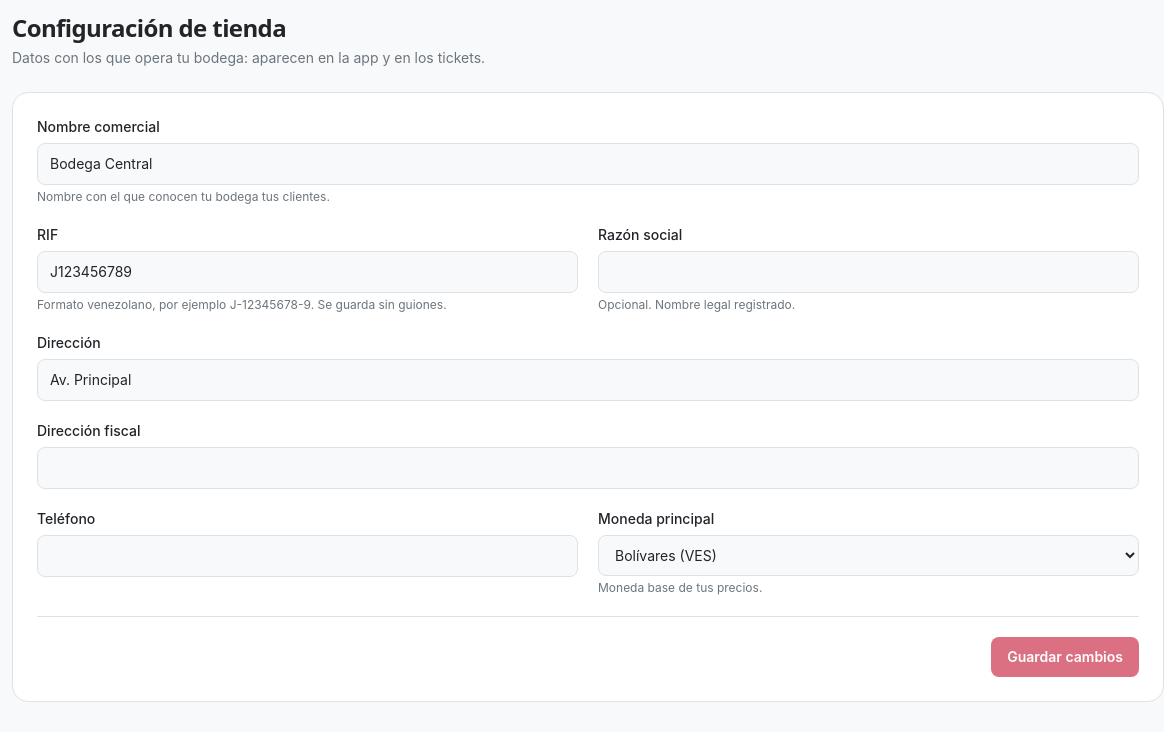
Test: ConfiguracionTiendaPage › blocks submit and shows field errors when validation fails
Clear the field labelled "Nombre comercial": [588, 164] box left=37, top=143, right=1139, bottom=185
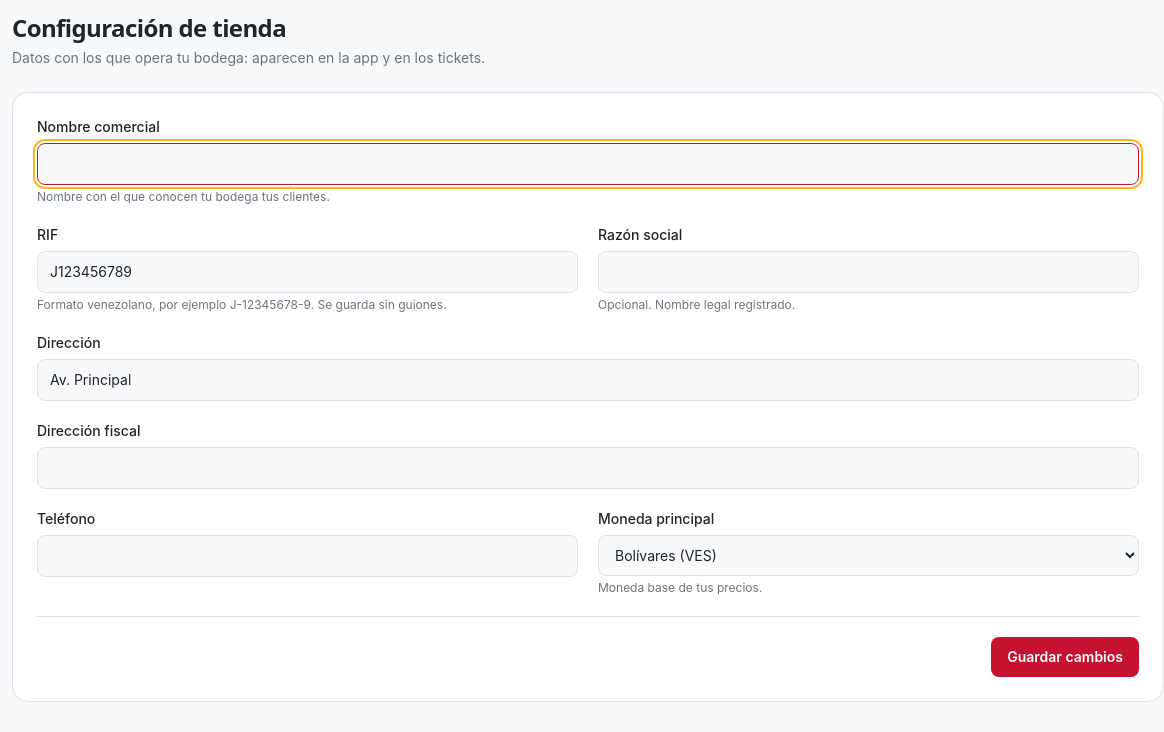
In the field labelled "RIF": [308, 272] box left=37, top=251, right=578, bottom=293, type "12345678"
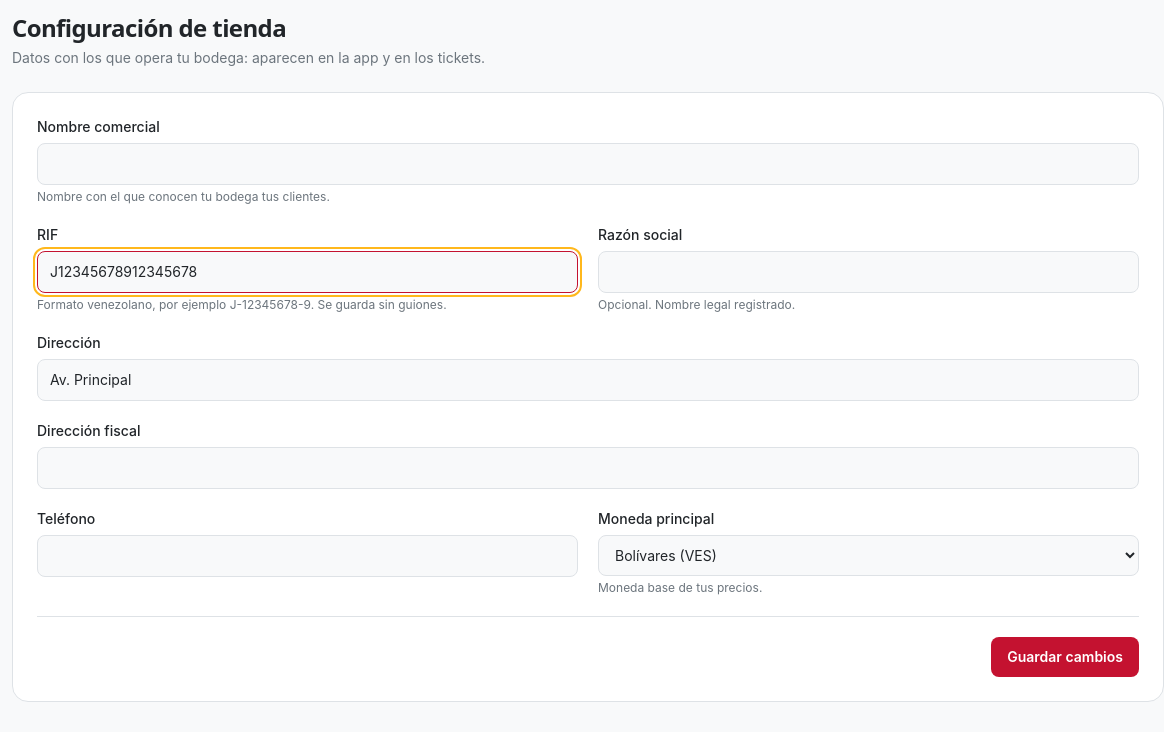
Click the button "Guardar cambios": [1065, 657] box left=991, top=637, right=1139, bottom=677
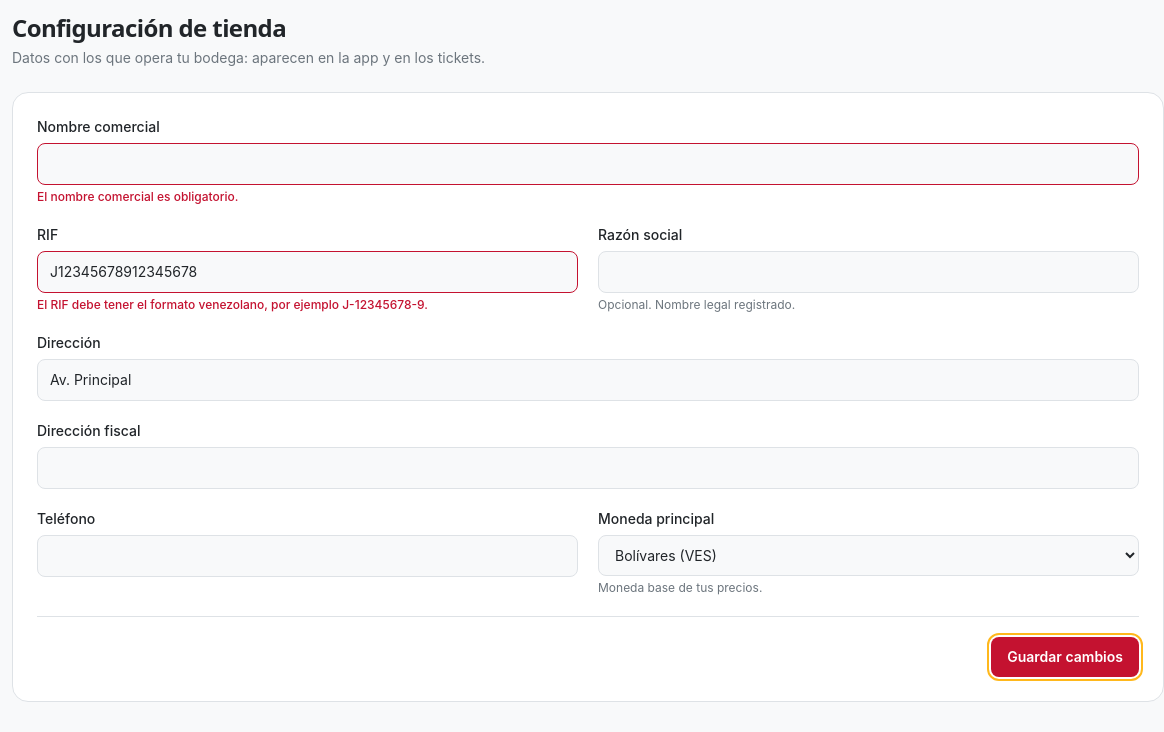
Expected: the text "El nombre comercial es obligatorio." is shown, left=37, top=189, right=238, bottom=204
Expected: the text "El RIF debe tener el formato venezolano, por ejemplo J-12345678-9." is shown, left=37, top=297, right=428, bottom=312
